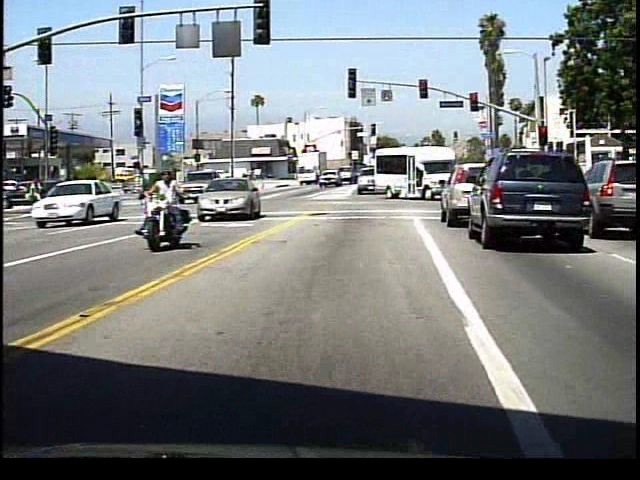person: (148, 166, 198, 251)
